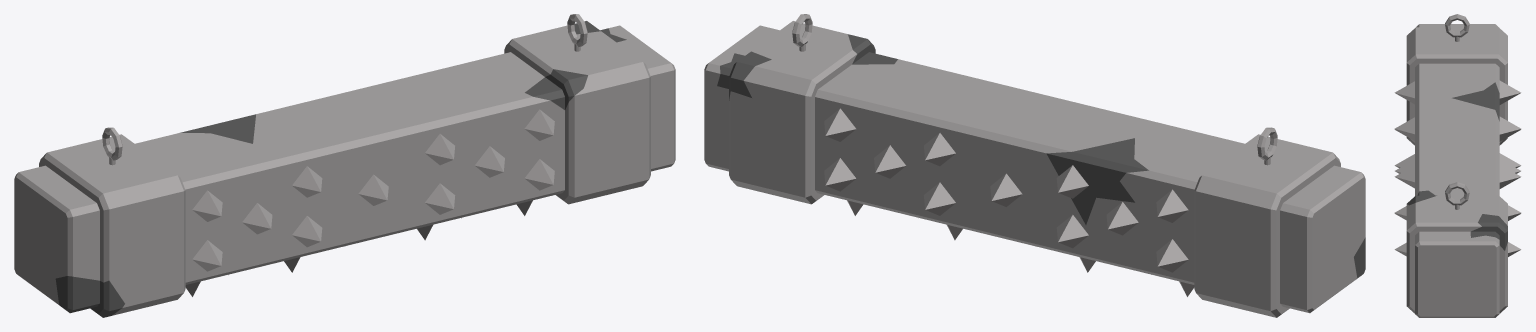
File: SwingingBeam_Metal.fbx
3 views of the same model, side by side, from view 1: azimuth 30°, elevation 25°; view 2: azimuth 150°, elevation 25°; view 3: azimuth 270°, elevation 25° (orthographic). The views are drawn at different scales.
Parts seen in each view (by area): view 1: SwingingBeam_Metal; view 2: SwingingBeam_Metal; view 3: SwingingBeam_Metal.
Part boxes in pixels (bbox=[...]): SwingingBeam_Metal: bbox=[14, 14, 675, 317]; SwingingBeam_Metal: bbox=[704, 14, 1365, 317]; SwingingBeam_Metal: bbox=[1394, 14, 1521, 317].
Size of the model in its own units: 366 by 101 by 89.61.
